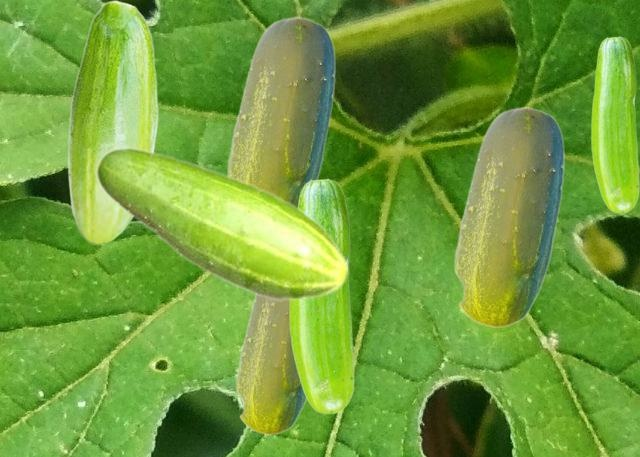cucumber: (95, 146, 349, 302), (453, 106, 563, 327), (67, 0, 157, 244), (226, 16, 334, 203), (289, 178, 353, 413), (235, 295, 306, 434), (591, 36, 638, 212)
